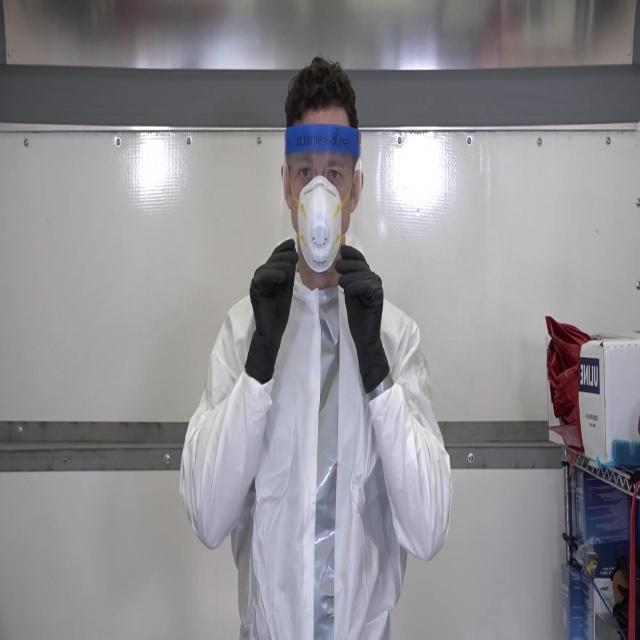gloves: (335, 242, 391, 394), (245, 234, 300, 380)
